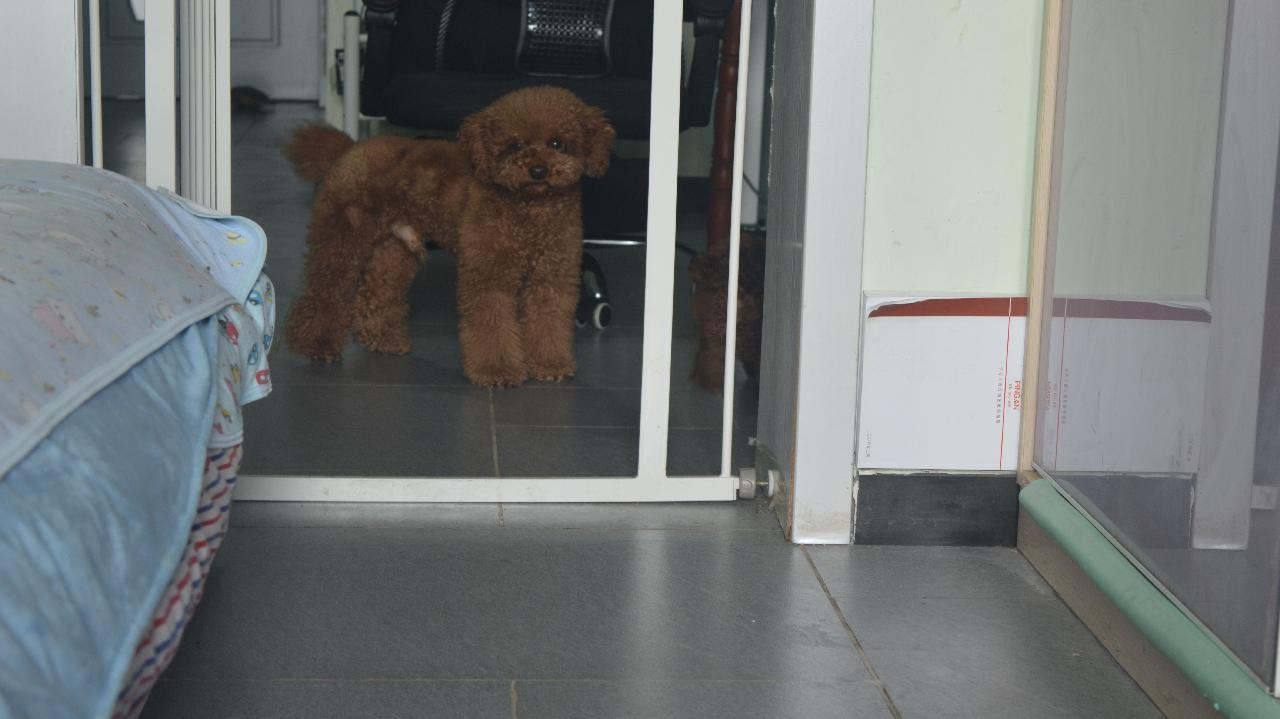zhuangzhuang: (291, 110, 615, 377)
